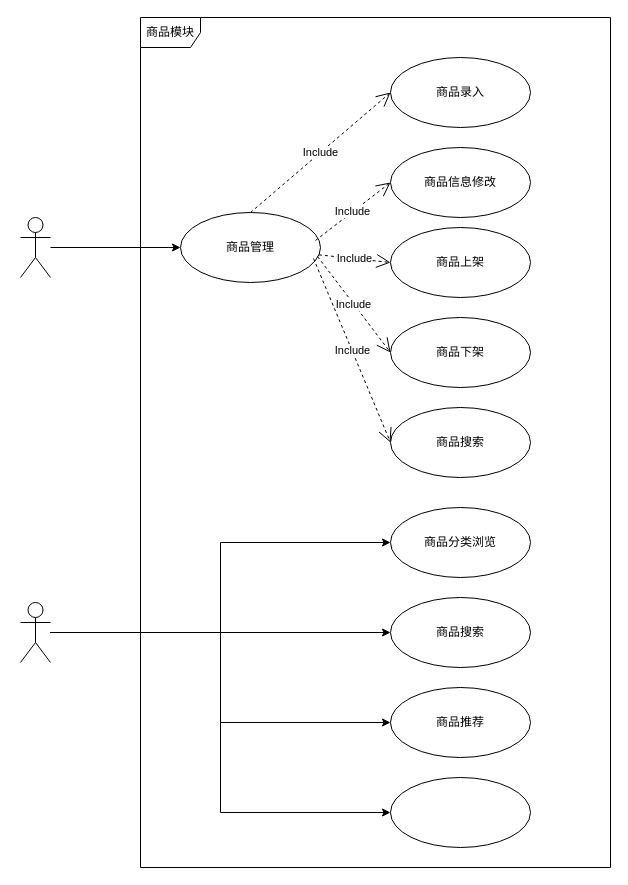
Image size: 628x885. Some labels were removed from this diagram. Here are the shapes that lost their labels. From the top down, the centre of each, then its label:
At (35,247): "管理员".
At (35,632): "用户".
At (460,812): "商品排行榜".
